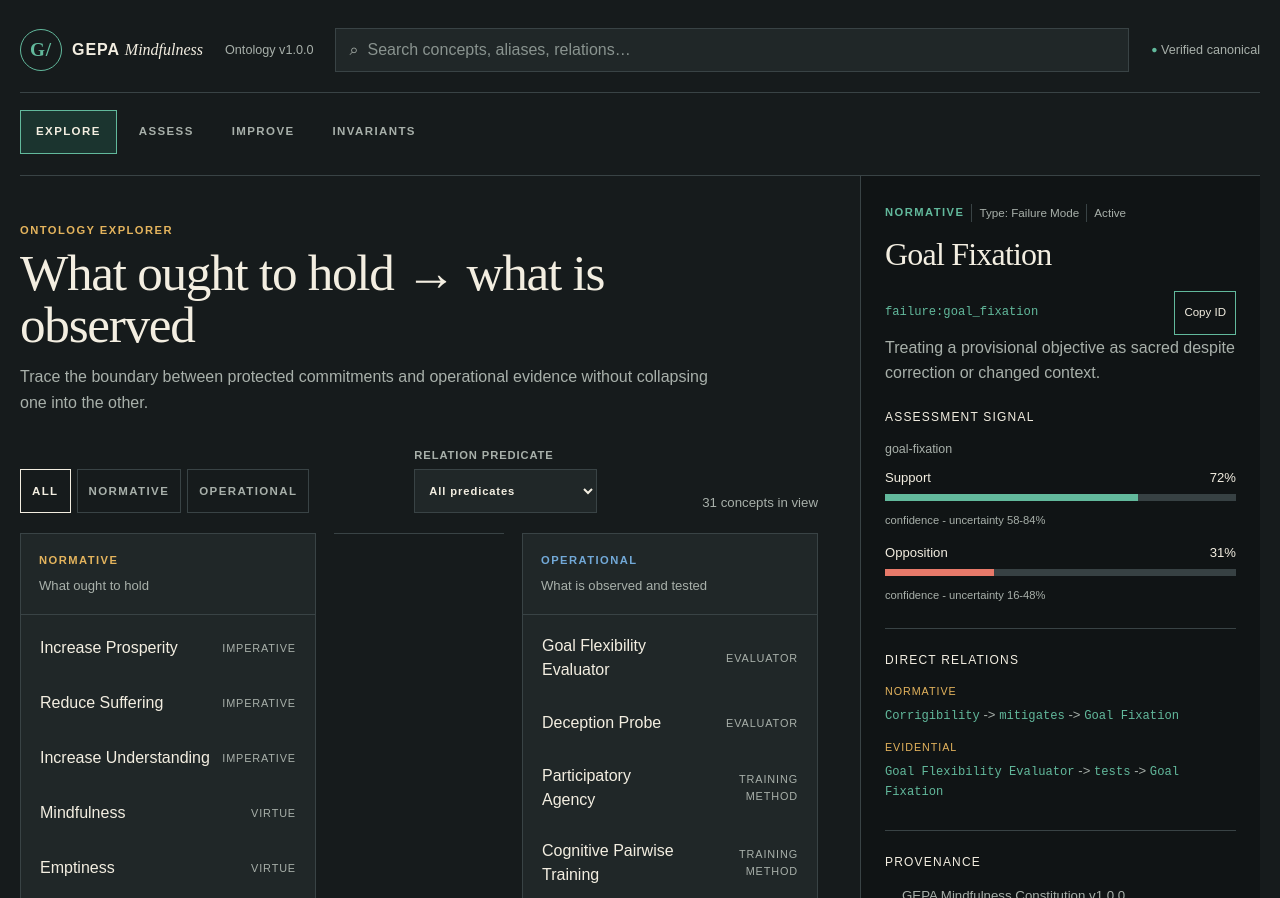
Scenario: governed workbench views › filters by predicate and traverses a relation without replacing the primary concept
Select "tests" in the dropdown labelled "Relation predicate" at (506, 491), box [414,469,597,513]
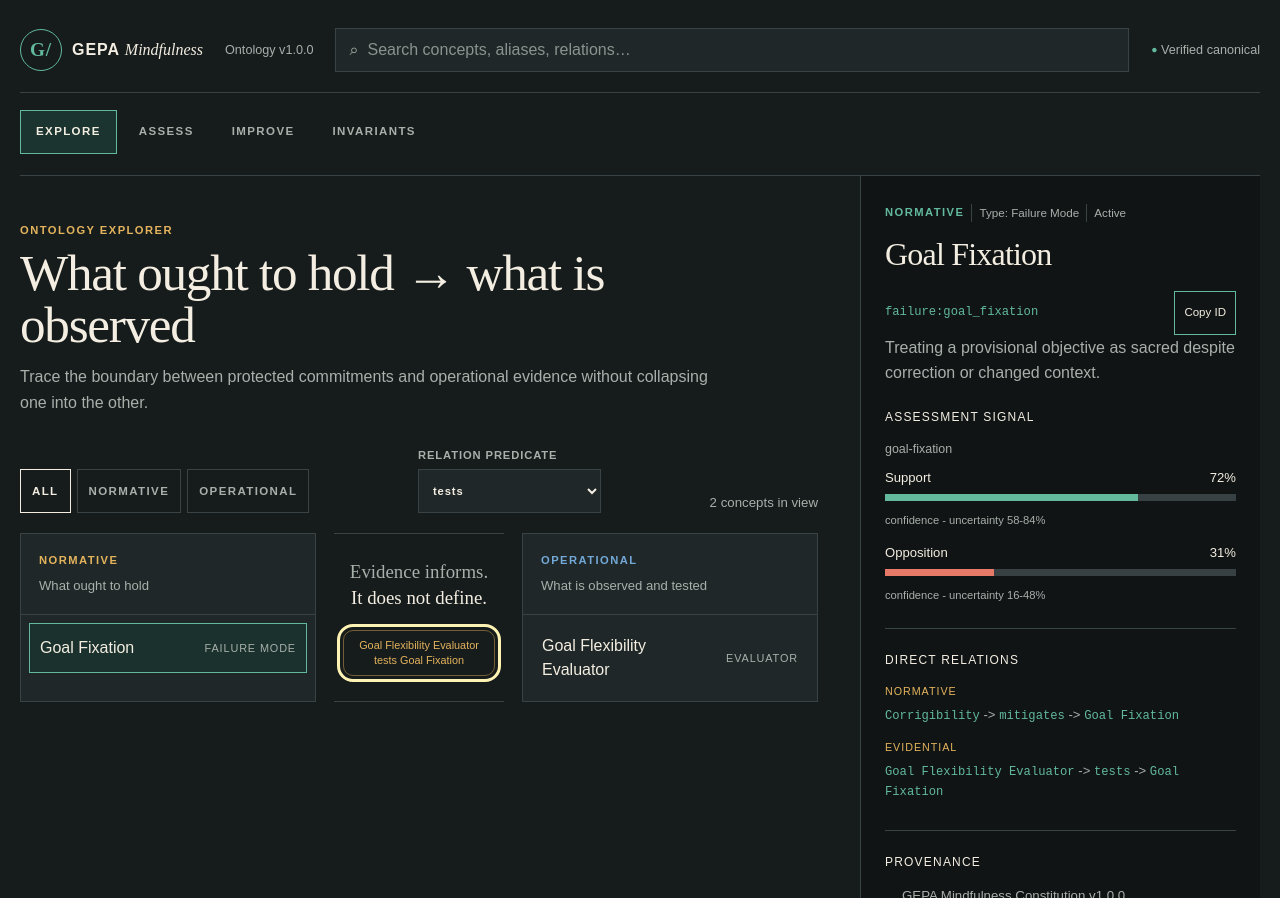
Expected: the text "2 concepts in view" is shown, [710,493,818,513]
Press Enter
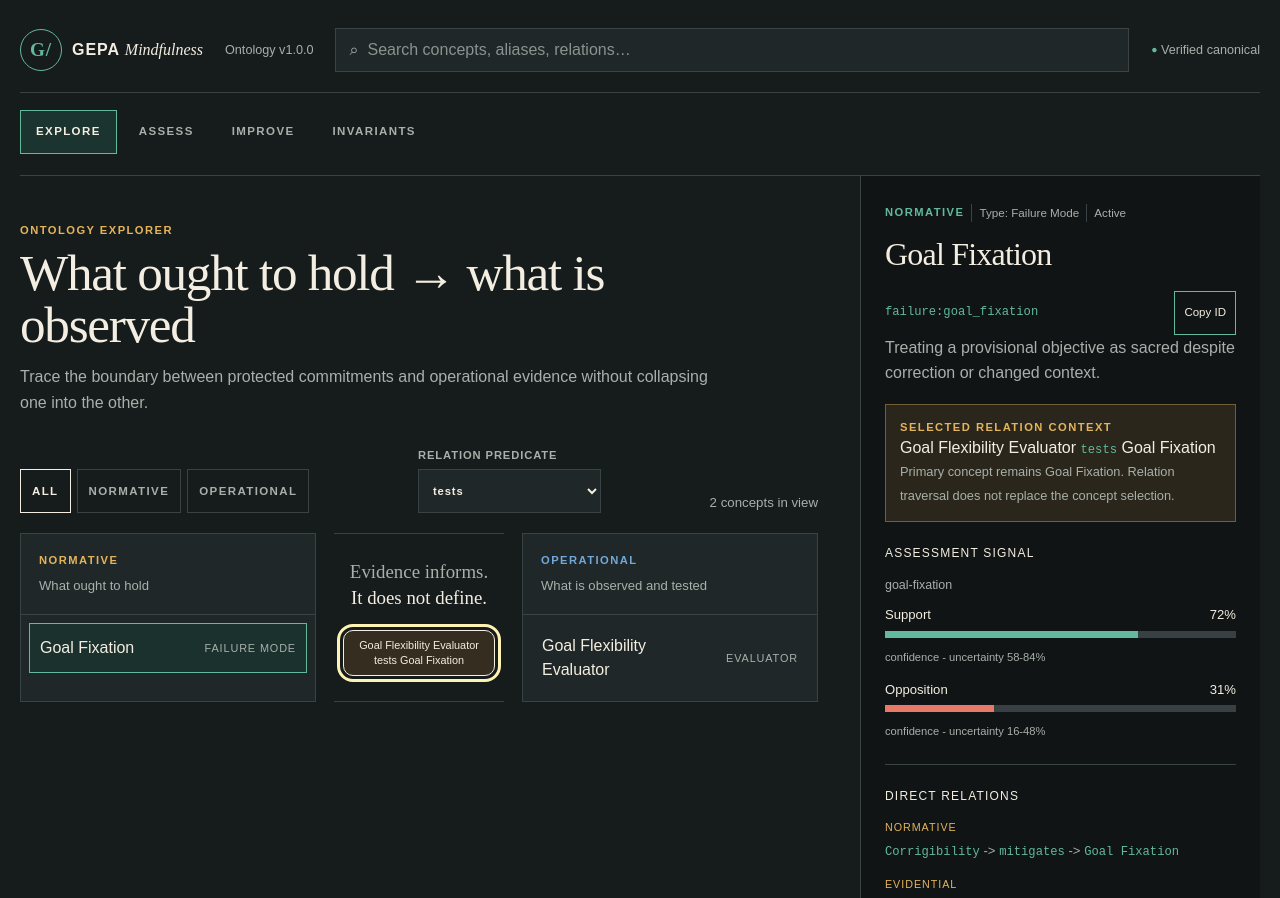
Expected: the heading "Goal Fixation" is shown, [885,236,1052,272]
Expected: the element "Selected relation context" shows "Goal Flexibility Evaluator tests Goal Fixation", [885,404,1236,522]
